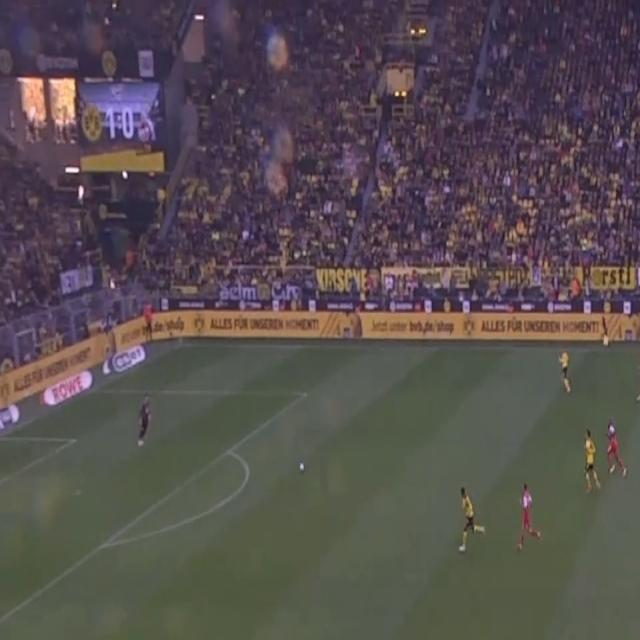ball: (298, 461, 305, 474)
